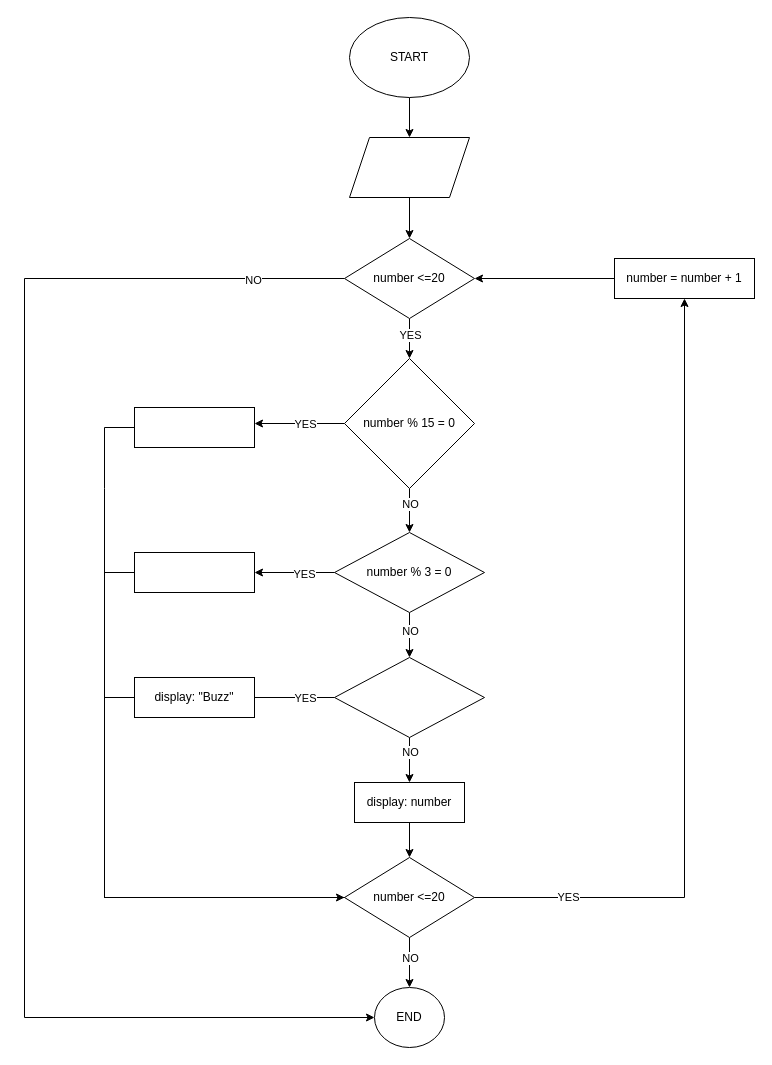
This 772x1065 diagram has some shape labels left out. Each missing label, with the centre of its shape:
display: "Fizz": [194,572]
display: "FizzBuzz": [194,427]
number % 5 = 0: [409,697]
number = 1: [409,167]
